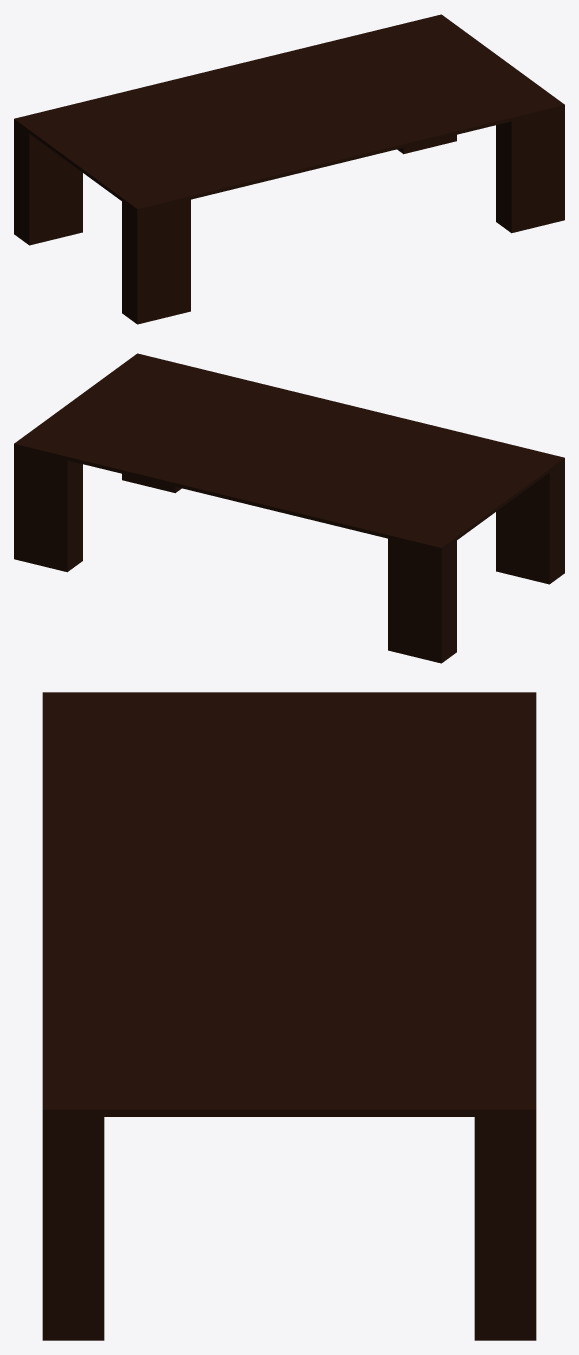
Rendered from Table.fbx.
The picture shows the model from 3 angles, top to bottom: view 1: azimuth 30°, elevation 25°; view 2: azimuth 150°, elevation 25°; view 3: azimuth 270°, elevation 25°; orthographic projection. The views are drawn at different scales.
Visible parts, largest first — view 1: Plane.001; view 2: Plane.001; view 3: Plane.001.
Boxes of the visible parts, box(x1,y1,x2,y2) form: Plane.001: box(14, 14, 564, 324); Plane.001: box(14, 353, 564, 663); Plane.001: box(42, 692, 536, 1340).
Size of the model in its own units: 4000 by 1033 by 2000.
